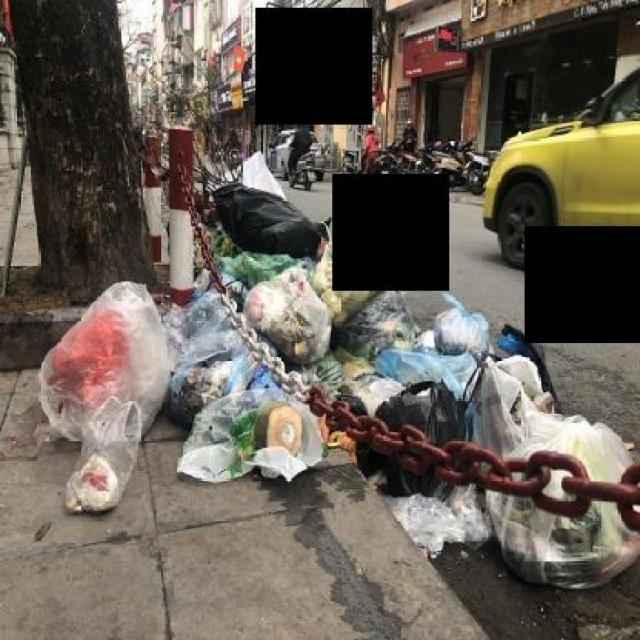plastic bag: (152, 202, 566, 530), (410, 338, 638, 608), (32, 268, 174, 514), (246, 214, 405, 354), (212, 163, 322, 262), (431, 282, 492, 363), (370, 346, 464, 397)
